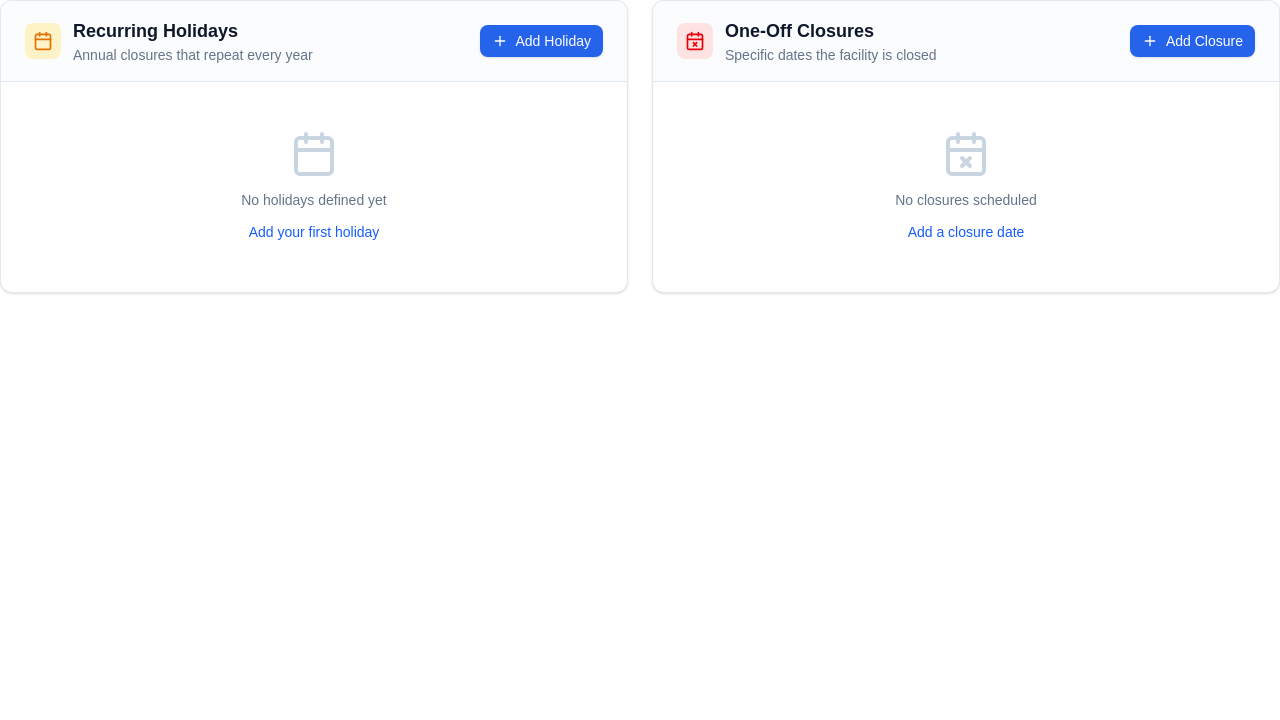
it: HolidaysTab › holiday dialog › opens Add Holiday dialog when button clicked
This screenshot has width=1280, height=720.
Click the button "Add Holiday".
click(541, 41)  # box [480,25,603,57]
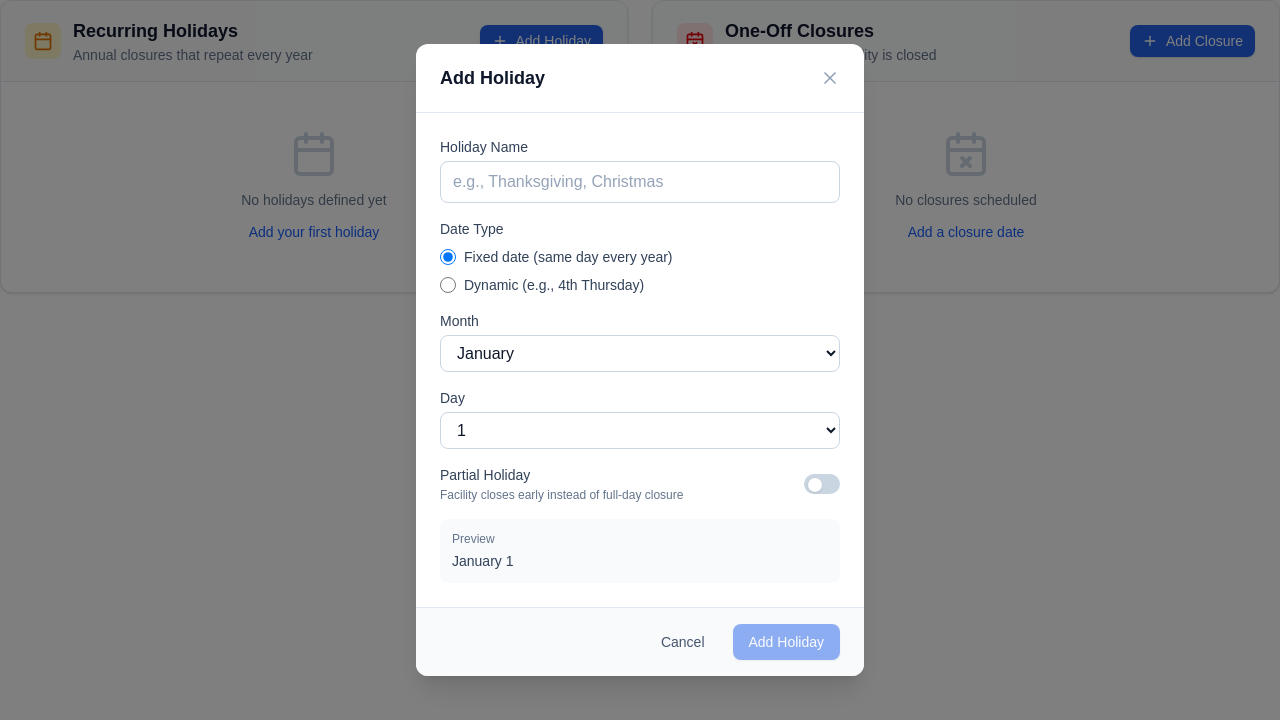
Check: the text "Holiday Name" is shown, box [440,139,528,155]
